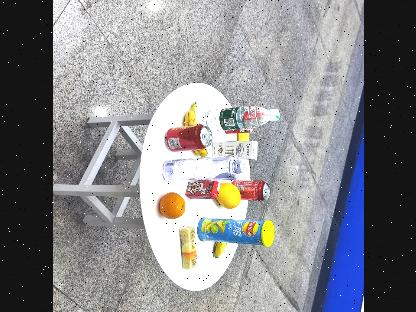Can: (161, 125, 211, 154), (237, 180, 273, 200)
Others: (194, 220, 278, 242), (214, 140, 256, 162)
Plastic Bottle: (156, 155, 246, 182)
